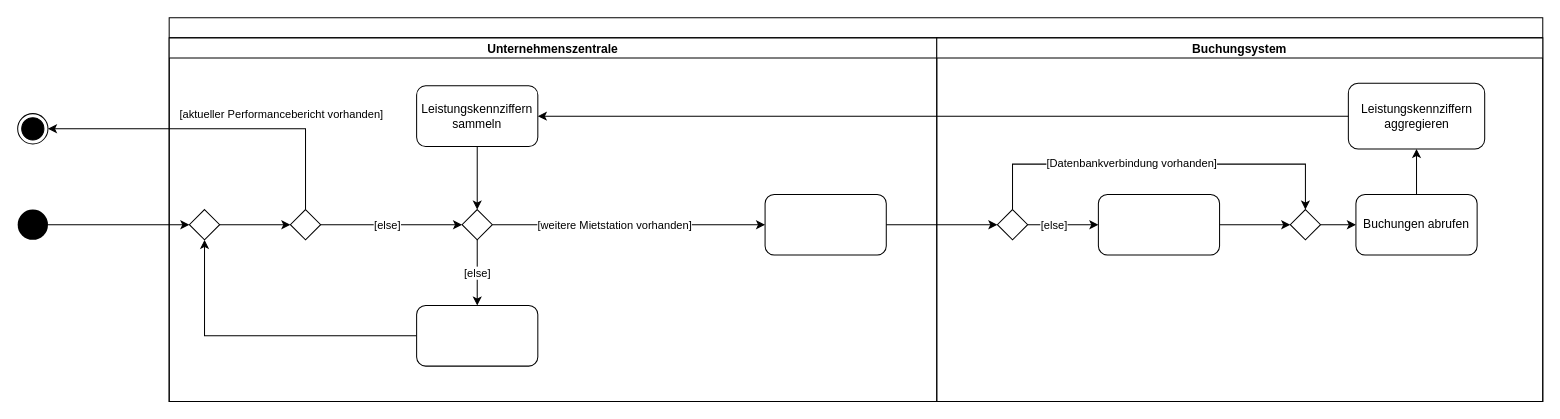
Image size: 1560x419. Some labels were removed from this diagram. The shapes that lost their labels are listed below. From the top down, each one's centre as x and y in pixels, then its label:
[825,224]: Leistungskennziffern berechnen
[1158,224]: Datenbankverbindung herstellen
[477,335]: Performance-Bericht erstellen
